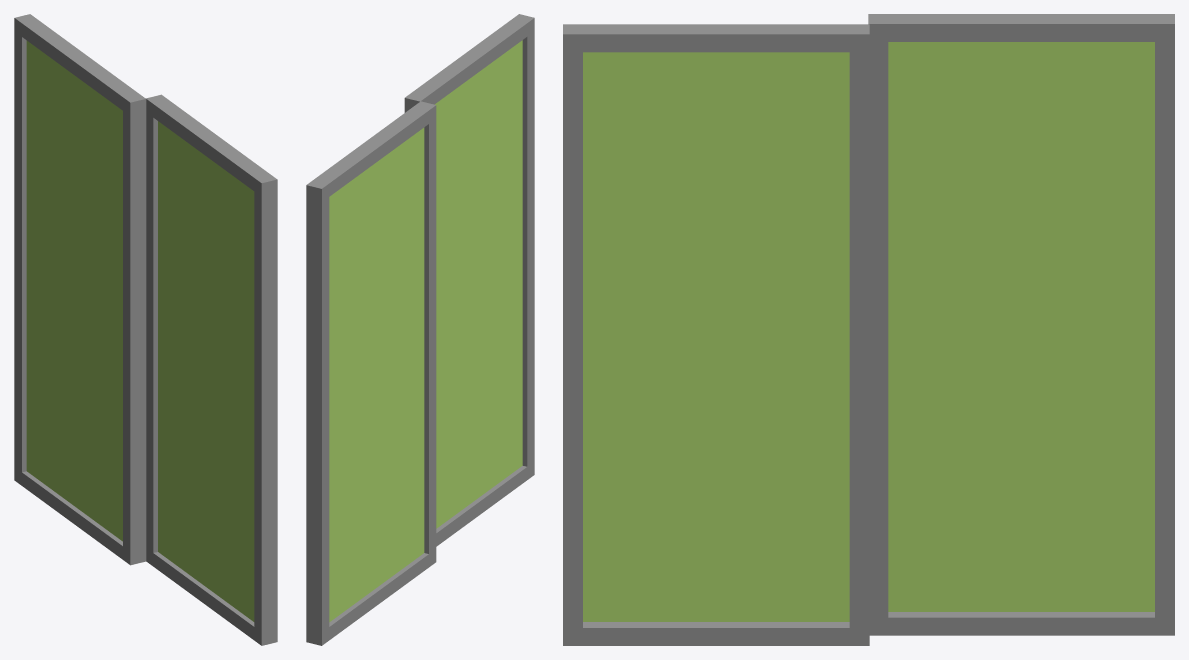
The model's file is singleslidingdoor.fbx.
3 views of the same model, side by side, from view 1: azimuth 30°, elevation 25°; view 2: azimuth 150°, elevation 25°; view 3: azimuth 270°, elevation 25° (orthographic). The views are drawn at different scales.
Parts seen in each view (by area): view 1: Cube.001, Cube; view 2: Cube.001, Cube; view 3: Cube, Cube.001.
Part boxes in pixels (bbox=[...]): Cube.001: bbox=[14, 14, 146, 565]; Cube: bbox=[146, 94, 277, 645]; Cube.001: bbox=[306, 101, 436, 645]; Cube: bbox=[404, 14, 534, 546]; Cube: bbox=[563, 24, 869, 645]; Cube.001: bbox=[868, 14, 1174, 635].
Size of the model in its own units: 38.8 by 542 by 492.
